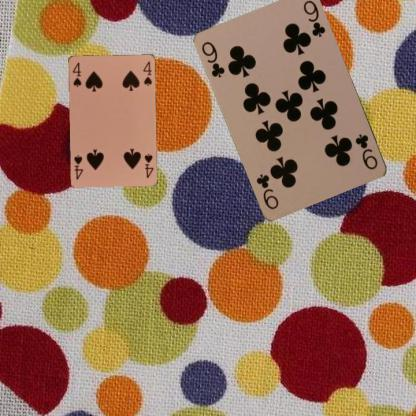4s: (70, 59, 82, 88), (142, 151, 154, 179)
9c: (353, 131, 380, 171), (199, 39, 226, 79)
